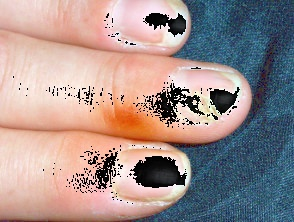Nail_psoriasis: (151, 60, 250, 132), (97, 143, 195, 213), (86, 0, 192, 57)
